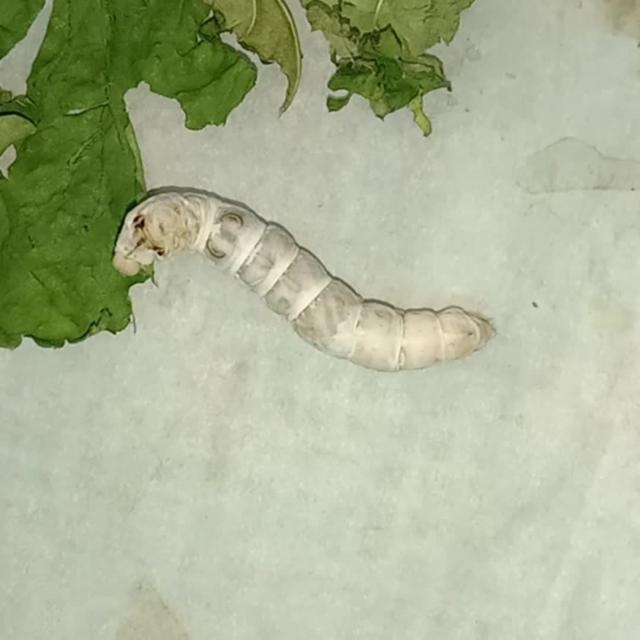Grasserie: (109, 173, 504, 394)
